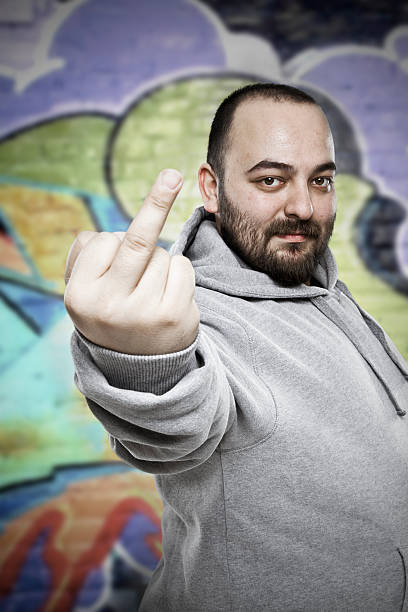insulting_gesture: (62, 168, 200, 349)
